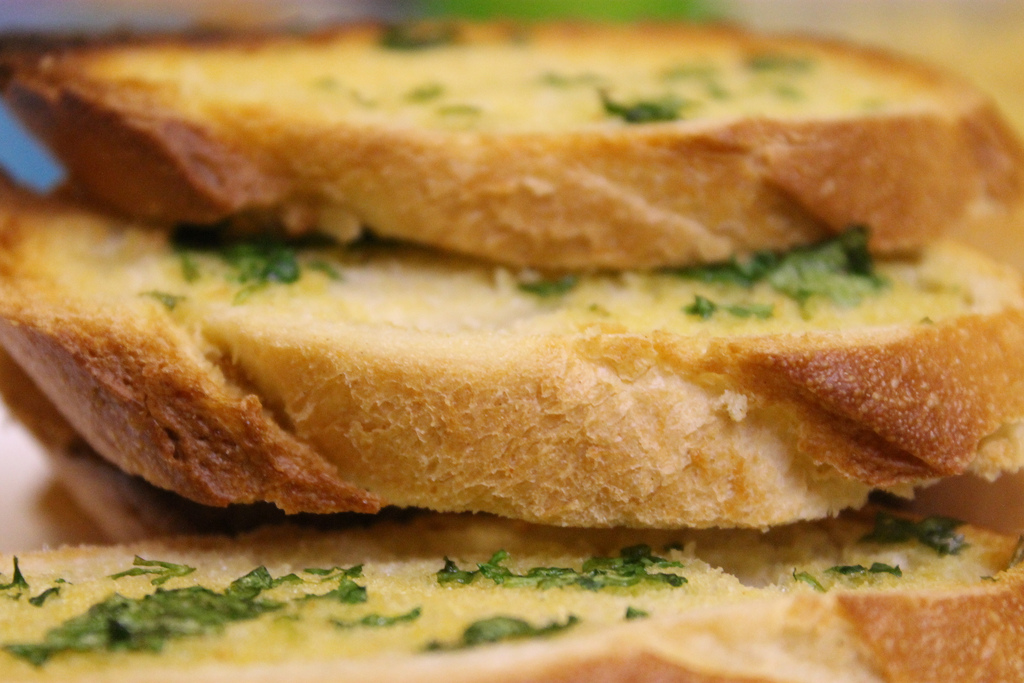slice of bread: (1, 262, 1011, 525), (17, 41, 1020, 254), (7, 502, 1020, 678)
